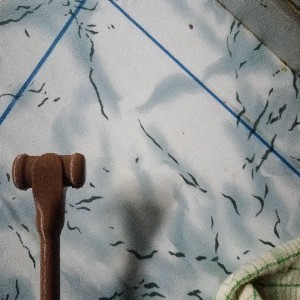palu: (10, 151, 86, 300)
